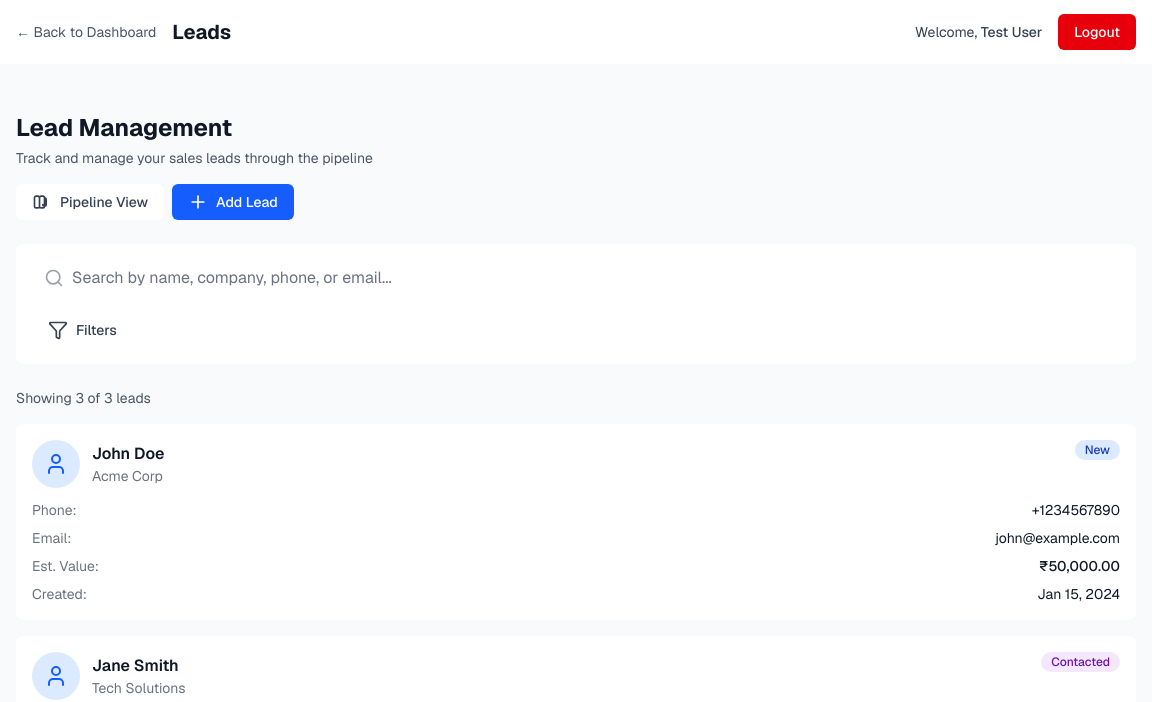
Test: LeadsPage › displays status filter dropdown with all statuses
// Open filter panel
Click the button "Filters" at (96, 330), box [32,312,1120,348]
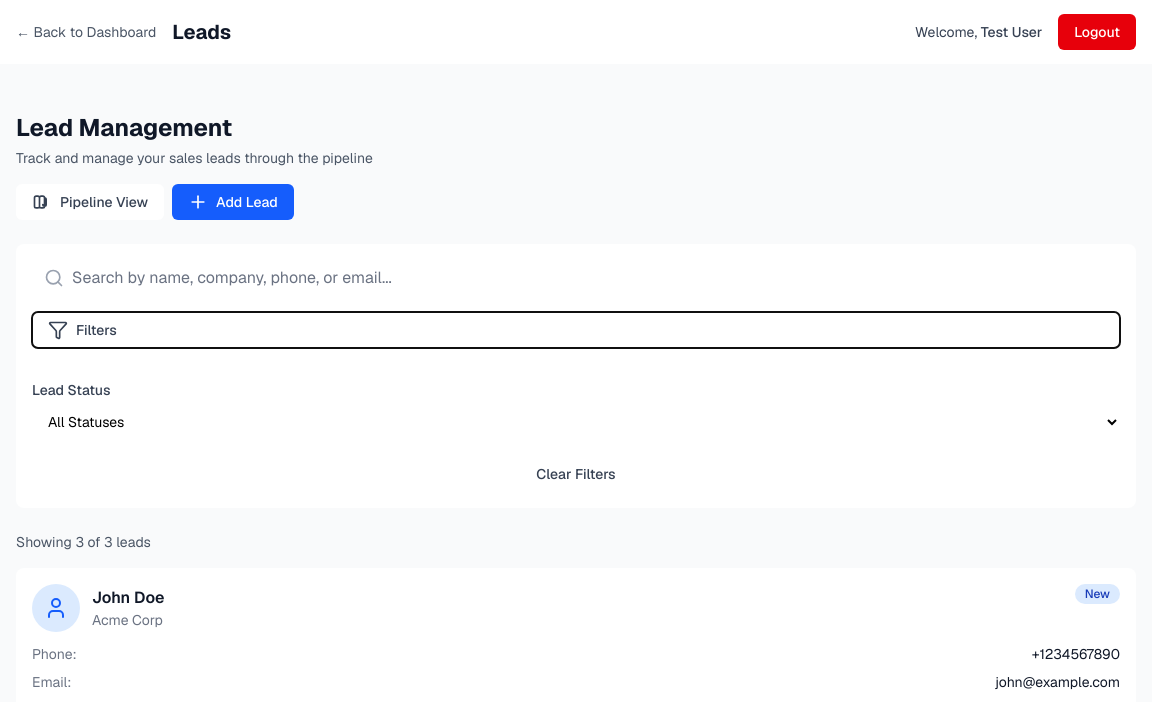
Now the dropdown labelled "Lead Status" is shown, box [32,404,1120,440]
